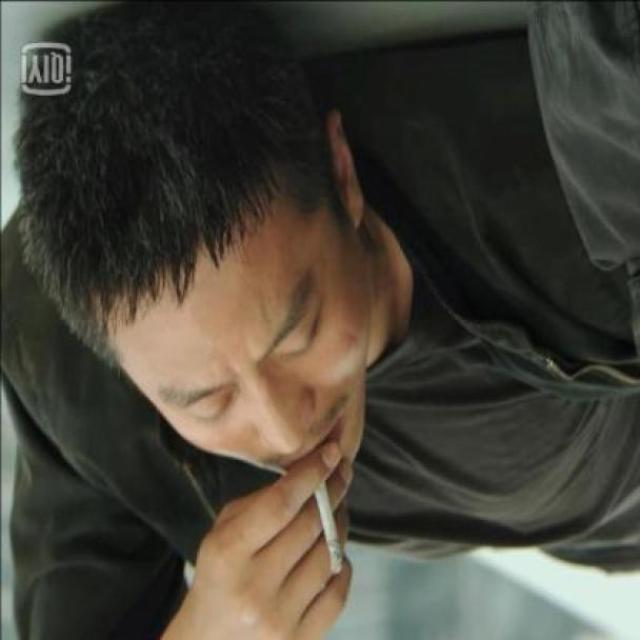rokok: (312, 478, 346, 580)
